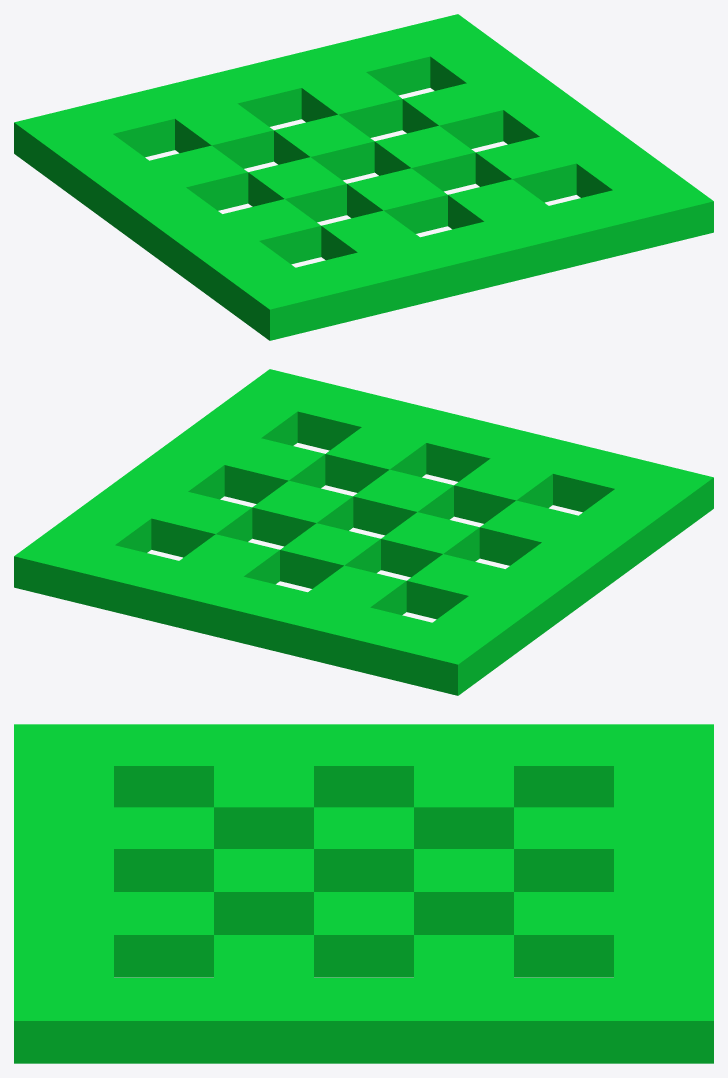
Rendered from MenuIcon1.gltf.
3 views of the same model, one above another, from view 1: azimuth 30°, elevation 25°; view 2: azimuth 150°, elevation 25°; view 3: azimuth 270°, elevation 25° (orthographic). The views are drawn at different scales.
Parts seen in each view (by area): view 1: Cube; view 2: Cube; view 3: Cube.
Part boxes in pixels (x1,y1,x2,y2): Cube: [14, 14, 713, 340]; Cube: [14, 369, 713, 695]; Cube: [14, 724, 713, 1063].
Size of the model in its own units: 1.75 by 0.1181 by 1.75.
